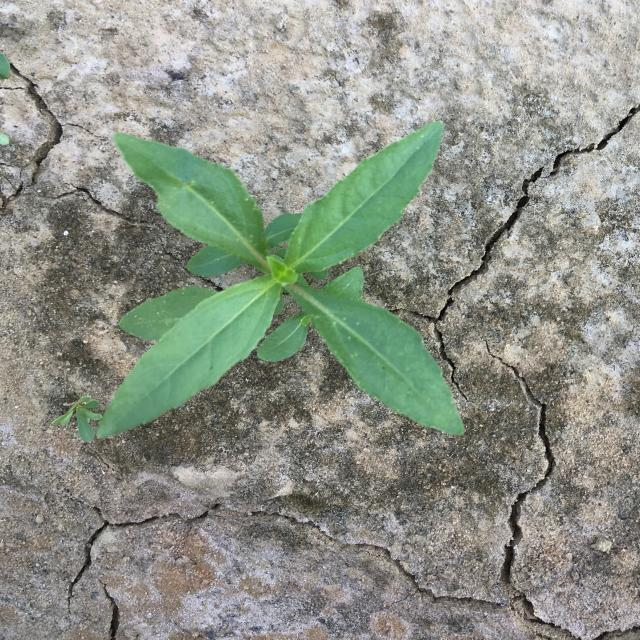Carpetweed: (51, 394, 102, 442)
Eclipta: (95, 122, 465, 440)
